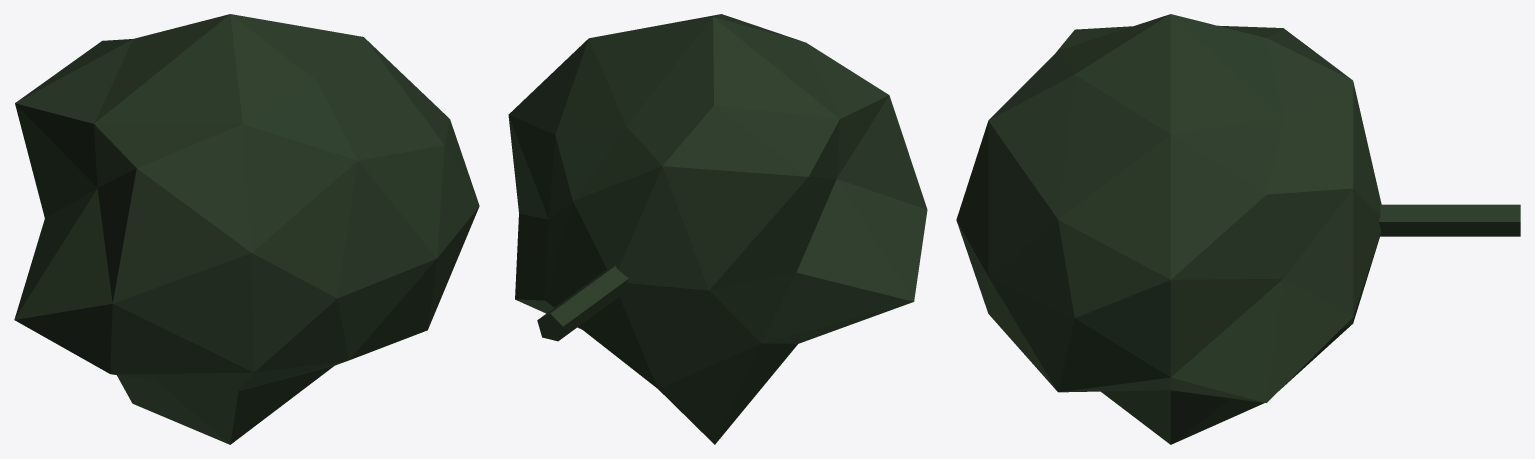
The model's file is tree_far_02.obj.
3 views of the same model, side by side, from view 1: azimuth 30°, elevation 25°; view 2: azimuth 150°, elevation 25°; view 3: azimuth 270°, elevation 25° (orthographic). The views are drawn at different scales.
Parts seen in each view (by area): view 1: tree_far_02; view 2: tree_far_02; view 3: tree_far_02.
Boxes of the visible parts, x1,y1,x2,y2 form: tree_far_02: (14, 14, 479, 444); tree_far_02: (508, 14, 927, 444); tree_far_02: (956, 14, 1520, 444).
Size of the model in its own units: 0.8916 by 0.8427 by 1.
Materials: 1 (1 with a texture image).
